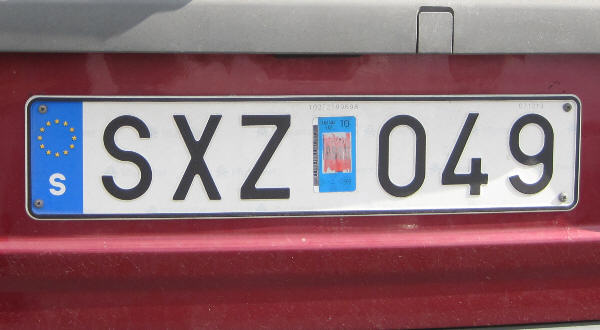license_plate: (25, 95, 579, 210)
